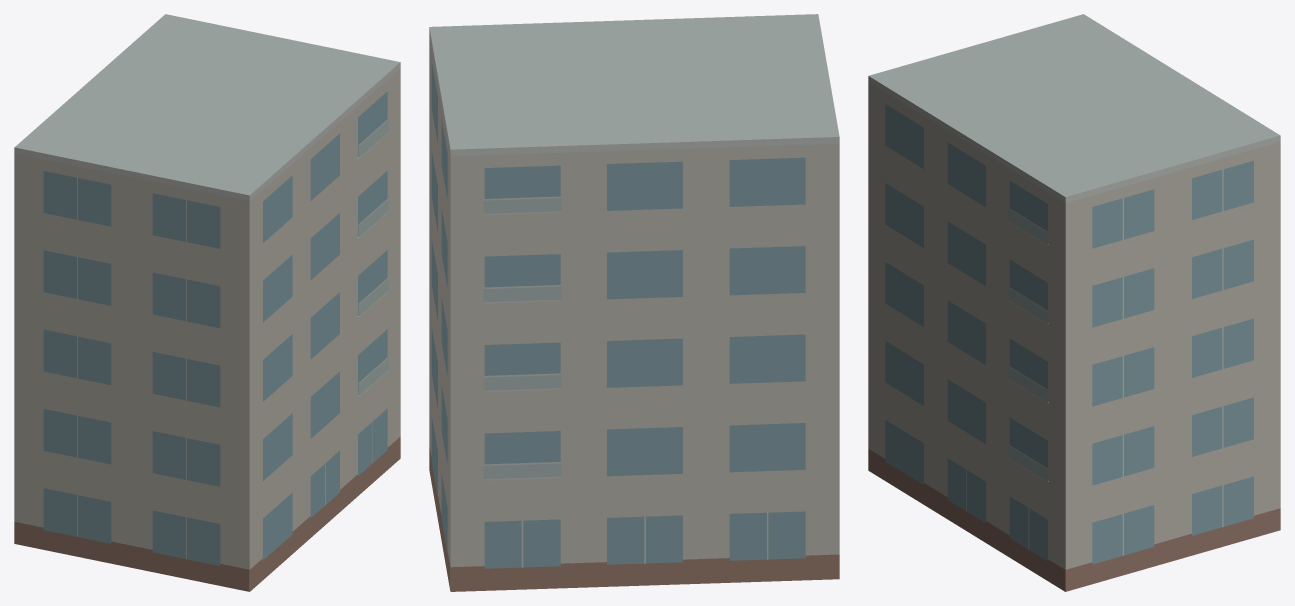
The model's file is survey-upis-32854358.glb.
3 renders of one model, left to right at view 1: azimuth 30°, elevation 25°; view 2: azimuth 150°, elevation 25°; view 3: azimuth 270°, elevation 25°, orthographic. The views are drawn at different scales.
Parts seen in each view (by area): view 1: survey-upis-32854358.tmp; view 2: survey-upis-32854358.tmp; view 3: survey-upis-32854358.tmp.
Part boxes in pixels (x1=…): survey-upis-32854358.tmp: x1=14, y1=14, x2=400, y2=591; survey-upis-32854358.tmp: x1=429, y1=14, x2=839, y2=591; survey-upis-32854358.tmp: x1=868, y1=14, x2=1280, y2=591.
Size of the model in its own units: 15.83 by 15.9 by 15.06.
